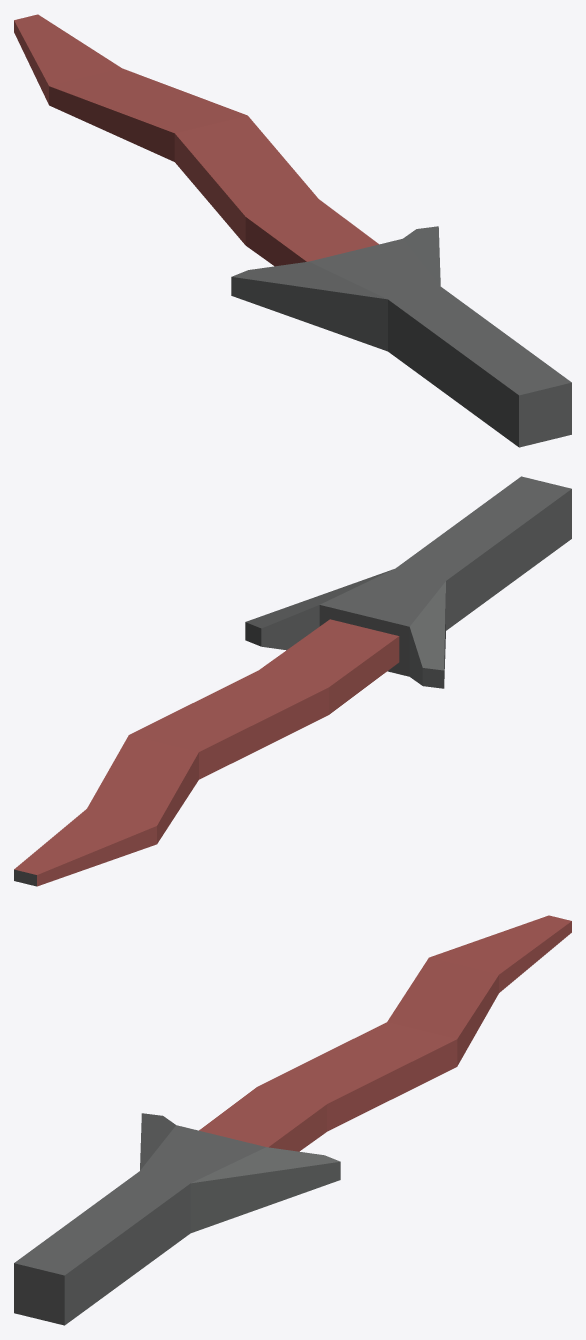
Rendered from RedAssassinDaggerLeft.fbx.
The picture shows the model from 3 angles, top to bottom: view 1: azimuth 30°, elevation 25°; view 2: azimuth 150°, elevation 25°; view 3: azimuth 330°, elevation 25°; orthographic projection. The views are drawn at different scales.
Parts seen in each view (by area): view 1: pCube15; view 2: pCube15; view 3: pCube15.
Part boxes in pixels (<box>): pCube15: <box>14,14,571,447</box>; pCube15: <box>14,476,571,886</box>; pCube15: <box>14,915,571,1325</box>.
Size of the model in its own units: 0.1042 by 0.025 by 0.4624.
